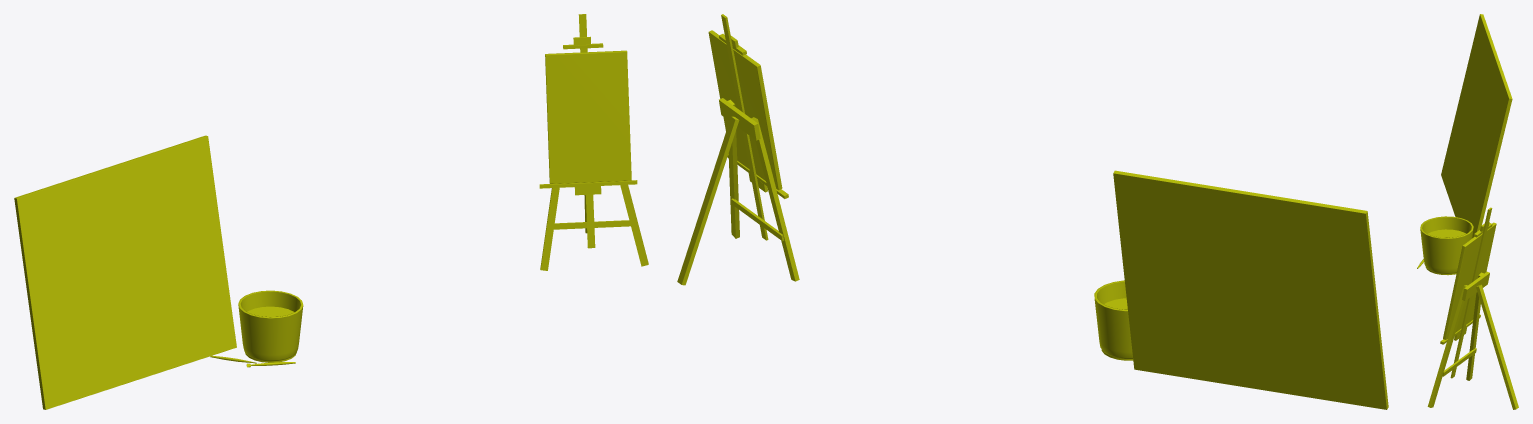
The model's file is ArtStallSpecific Not Exploded.fbx.
3 renders of one model, left to right at view 1: azimuth 30°, elevation 25°; view 2: azimuth 150°, elevation 25°; view 3: azimuth 270°, elevation 25°, orthographic. The views are drawn at different scales.
Visible parts, largest first — view 1: Canvas_on_easel1, Canvas_on_easel, Glass_Cylinder1, Easel1; view 2: Canvas_on_easel1, Easel1, Canvas_on_easel, Glass_Cylinder1; view 3: Canvas_on_easel1, Easel1, Glass_Cylinder1, Canvas_on_easel, pCylinder1.
Boxes of the visible parts, x1,y1,x2,y2 form: Canvas_on_easel1: [14, 135, 236, 409]; Canvas_on_easel: [545, 50, 631, 183]; Glass_Cylinder1: [238, 290, 303, 362]; Easel1: [539, 14, 648, 270]; Canvas_on_easel1: [1113, 170, 1388, 409]; Easel1: [677, 14, 799, 285]; Canvas_on_easel: [708, 30, 782, 190]; Glass_Cylinder1: [1094, 280, 1133, 360]; Canvas_on_easel1: [1441, 14, 1512, 237]; Easel1: [1427, 207, 1518, 409]; Glass_Cylinder1: [1420, 216, 1473, 275]; Canvas_on_easel: [1443, 222, 1496, 339]; pCylinder1: [1428, 229, 1465, 237].
Size of the model in its own units: 592 by 224 by 107.
